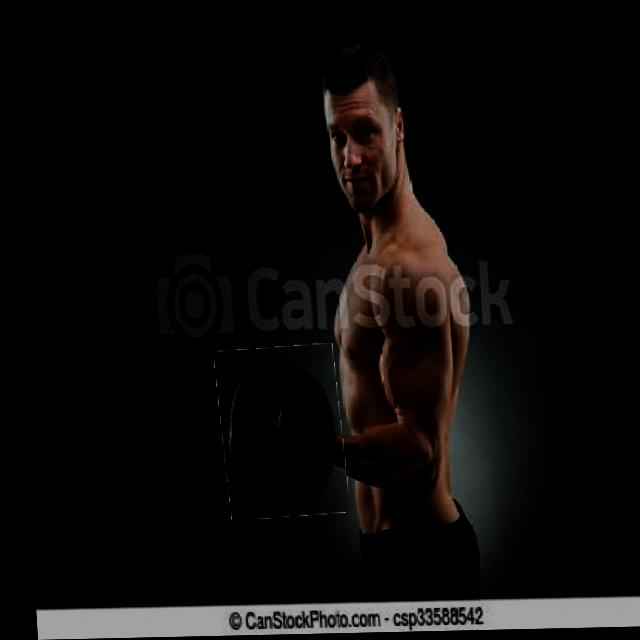barbell: (212, 347, 342, 521)
